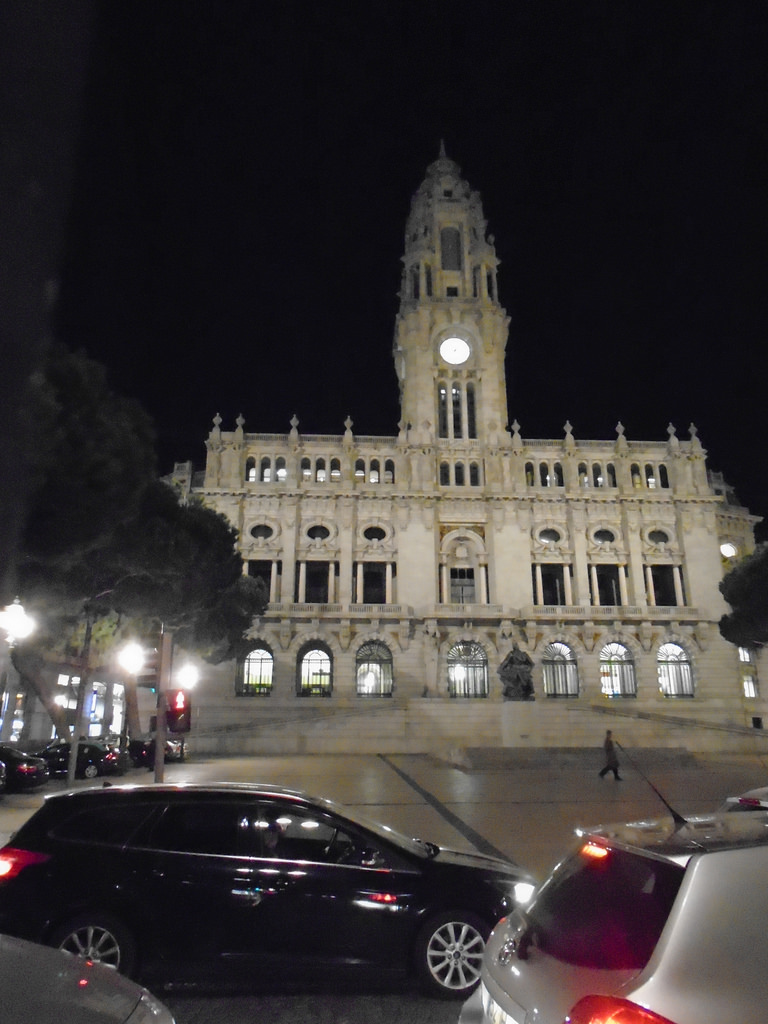camara: (155, 131, 767, 729)
